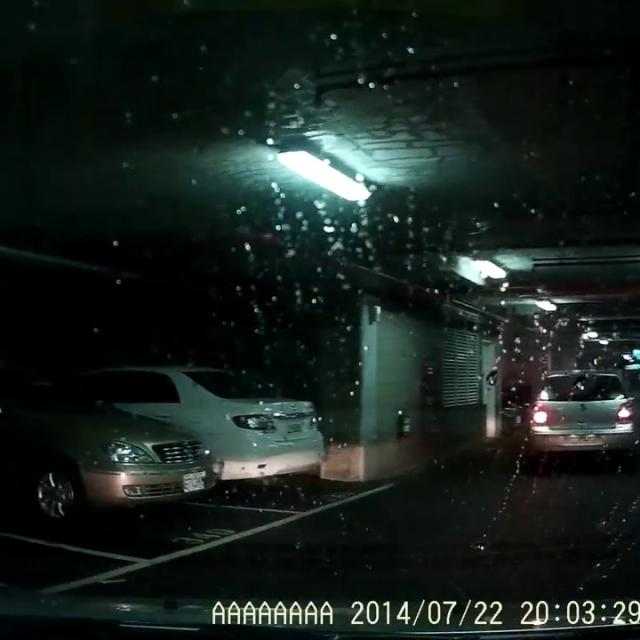Car: (71, 360, 325, 491), (1, 380, 219, 524), (525, 364, 637, 460)
